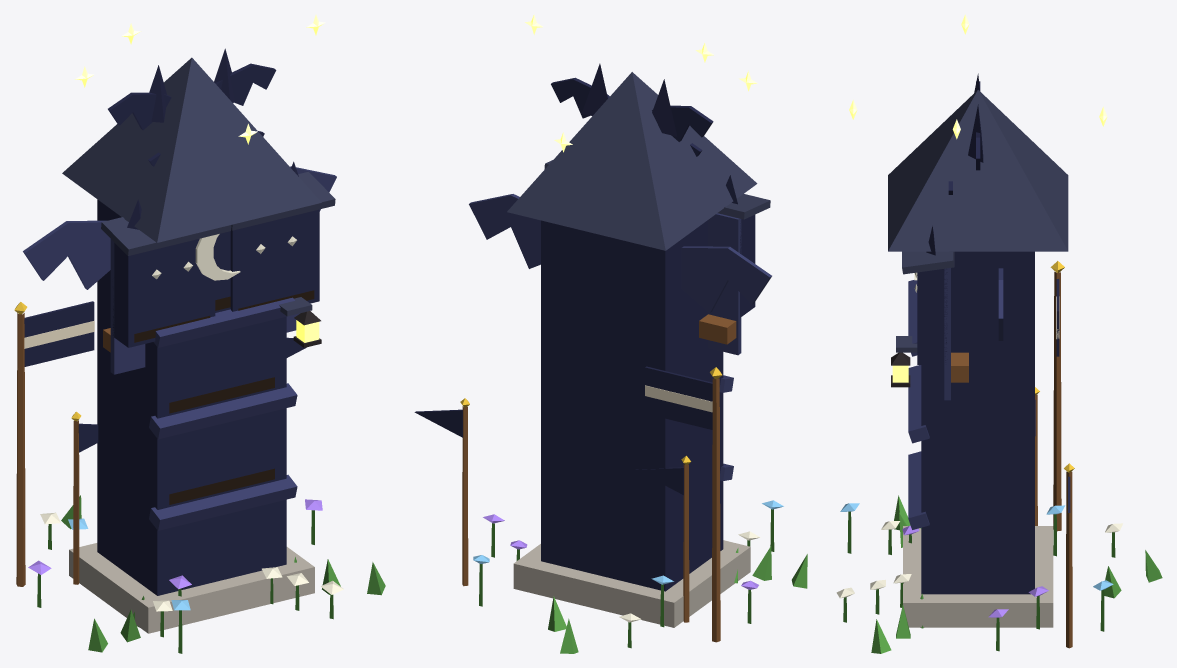
The model's file is bat-roost.glb.
3 renders of one model, left to right at view 1: azimuth 30°, elevation 25°; view 2: azimuth 150°, elevation 25°; view 3: azimuth 270°, elevation 25°, orthographic. The views are drawn at different scales.
Visible parts, largest first — view 1: lv3, lv2, lv1; view 2: lv3, lv2; view 3: lv3, lv2.
Part boxes in pixels (left/top/right/bottom): lv3: left=14, top=14, right=385, bottom=653; lv2: left=68, top=63, right=340, bottom=642; lv1: left=133, top=131, right=296, bottom=627; lv3: left=414, top=14, right=807, bottom=653; lv2: left=510, top=77, right=771, bottom=631; lv3: left=836, top=14, right=1162, bottom=653; lv2: left=870, top=81, right=1121, bottom=638.
Bounding box in the file's own units: 1.6 × 2.54 × 1.43.
